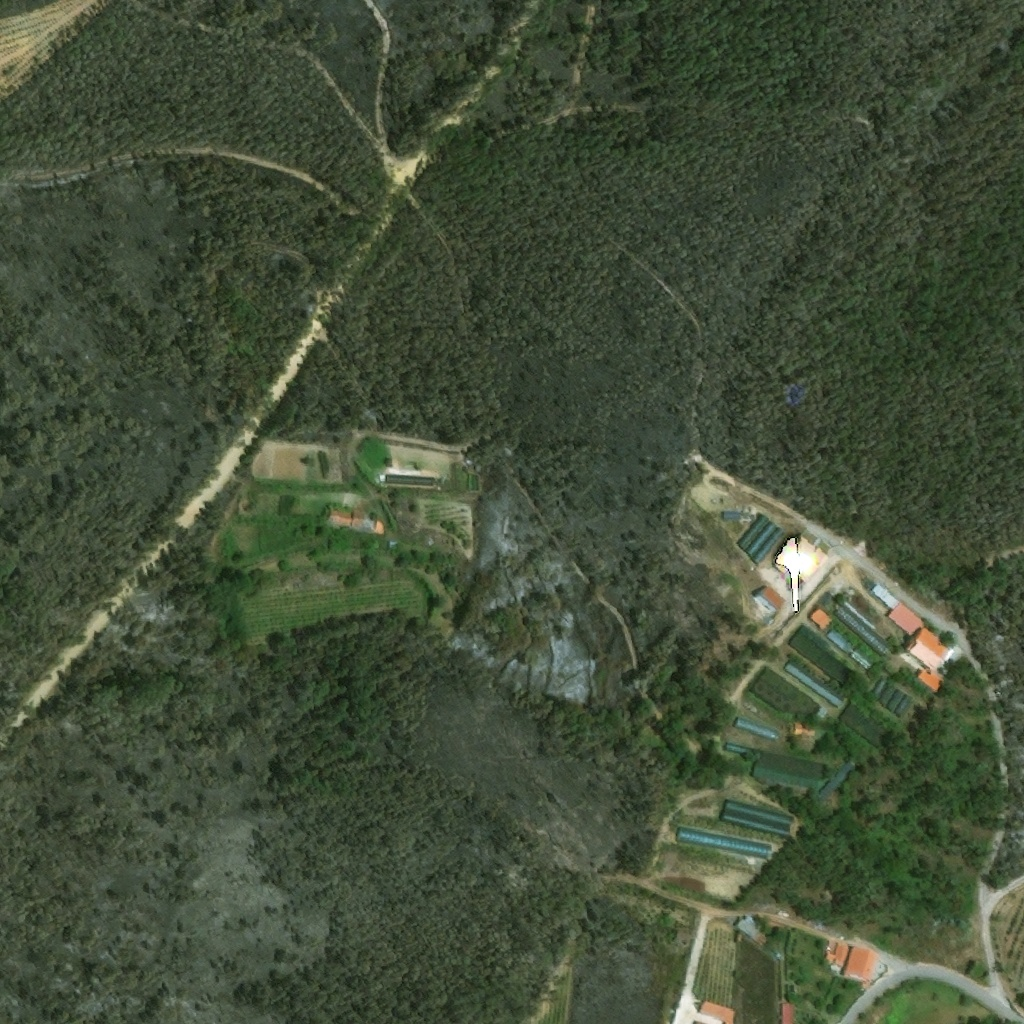0 no-damage: (749, 666, 822, 728), (789, 630, 859, 689), (748, 750, 827, 791), (833, 602, 891, 657), (838, 697, 898, 750), (782, 660, 845, 709), (773, 533, 829, 584), (720, 801, 793, 840), (811, 759, 859, 807), (907, 628, 953, 671), (737, 513, 773, 552), (842, 945, 879, 982), (751, 528, 786, 566), (744, 521, 779, 558), (888, 602, 926, 636), (733, 718, 780, 743), (735, 917, 769, 947), (827, 625, 857, 654), (756, 586, 786, 614), (699, 1001, 736, 1023), (871, 583, 900, 610), (825, 939, 851, 968), (851, 646, 878, 671), (917, 668, 941, 693), (387, 475, 435, 487), (810, 607, 833, 631), (885, 689, 906, 713), (877, 683, 898, 707), (869, 678, 890, 702), (894, 694, 913, 719), (721, 743, 752, 758), (330, 508, 353, 528), (353, 512, 376, 532), (779, 1002, 795, 1023), (724, 511, 744, 519), (388, 542, 400, 553), (746, 914, 759, 922)
4 un-classified: (319, 452, 332, 482), (457, 467, 465, 491)
